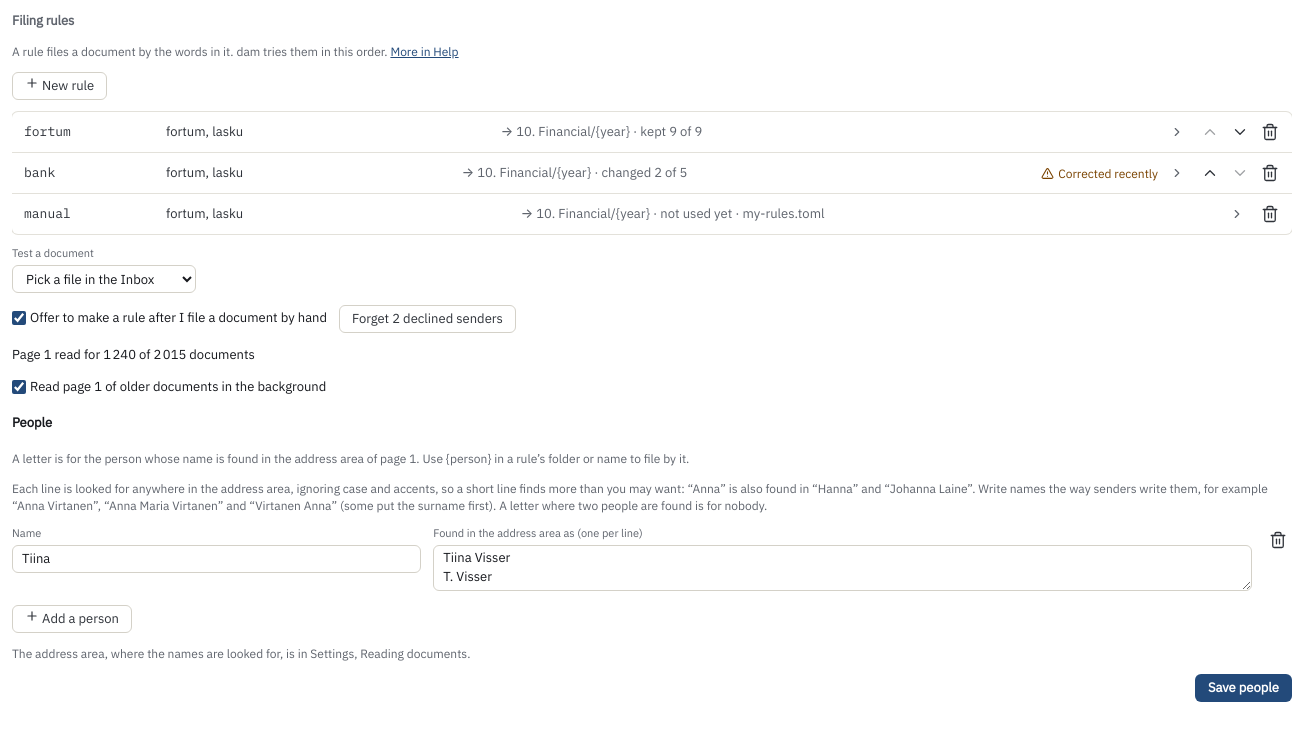
FilingRules › shows the page-1 lines in a rule's area when testing a document
The width and height of the screenshot is (1304, 732).
Step 1. Select "bill.pdf" in the dropdown labelled "Test a document" → (104, 279), box [12,265,196,293]
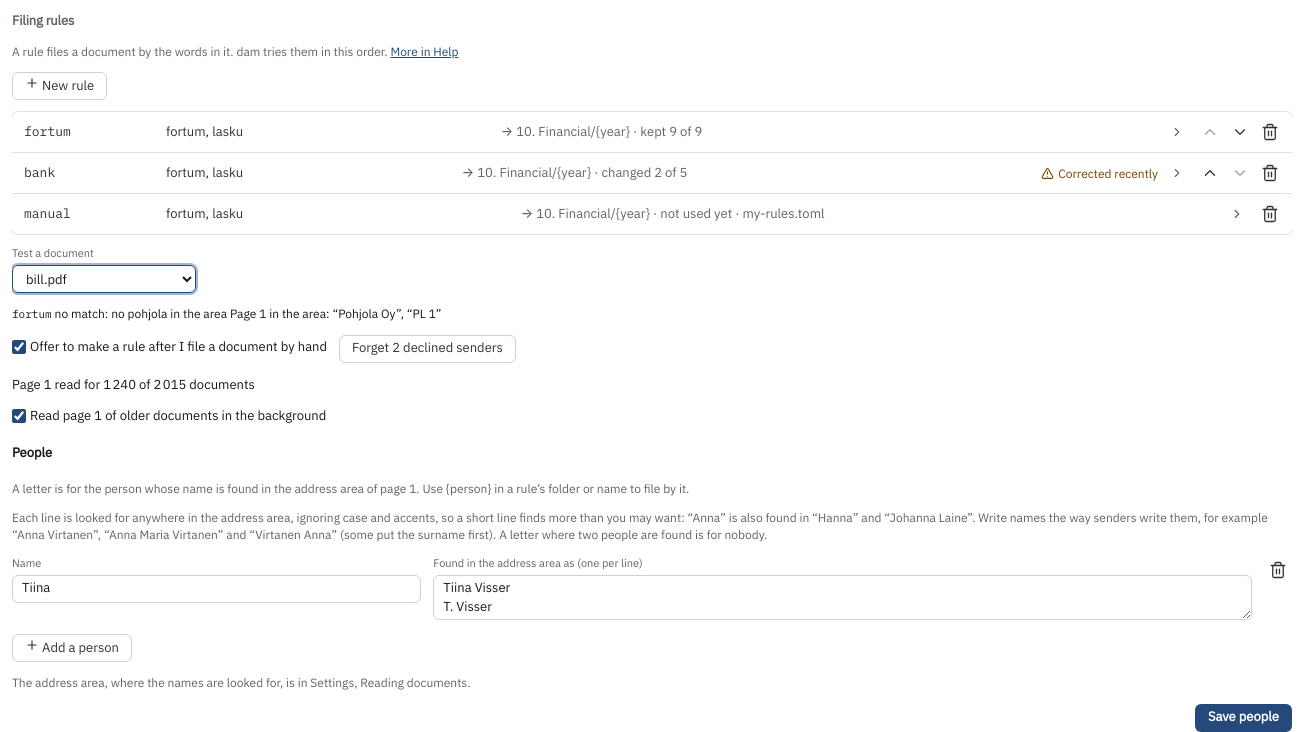
Check: the list named "Rules for this document" shows "Page 1 in the area: “Pohjola Oy”, “PL 1”", box [12,306,442,321]
